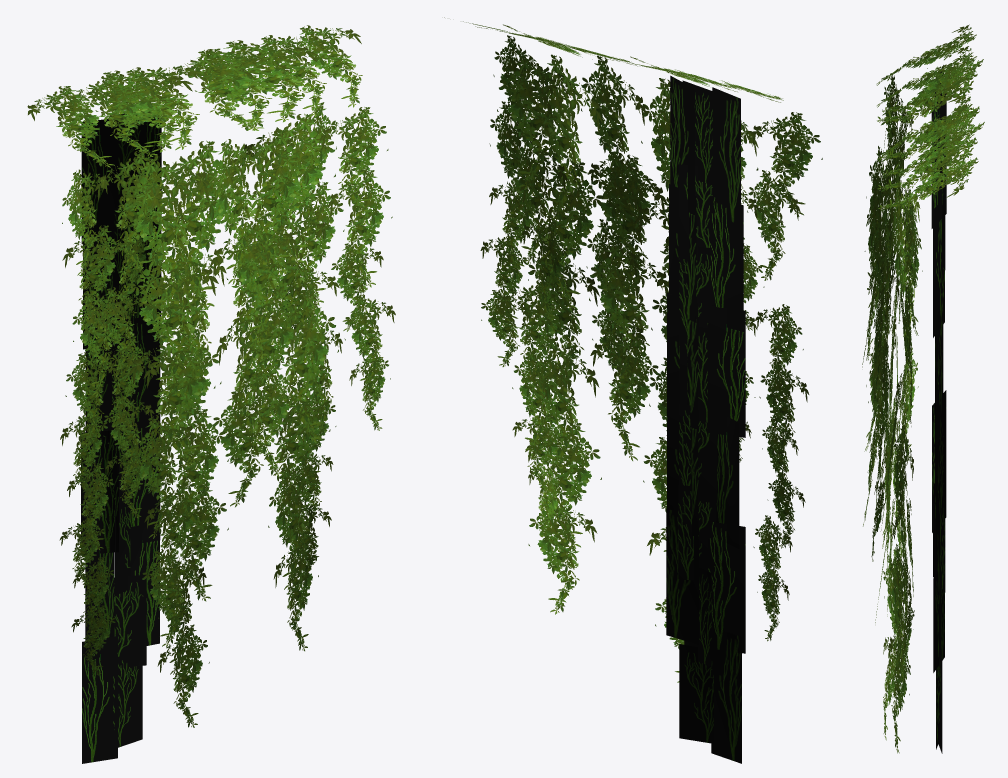
File: Curtain_A.fbx
3 renders of one model, left to right at view 1: azimuth 30°, elevation 25°; view 2: azimuth 150°, elevation 25°; view 3: azimuth 270°, elevation 25°, orthographic. The views are drawn at different scales.
Visible parts, largest first — view 1: Curtain_A_LOD0; view 2: Curtain_A_LOD0; view 3: Curtain_A_LOD0.
Part boxes in pixels (x1,y1,x2,y2): Curtain_A_LOD0: [27, 25, 395, 763]; Curtain_A_LOD0: [444, 17, 822, 763]; Curtain_A_LOD0: [862, 24, 984, 753].
Size of what is drawn, in the model's own units: 3.66 by 7 by 1.28.
Materials: 2 (2 with a texture image).
